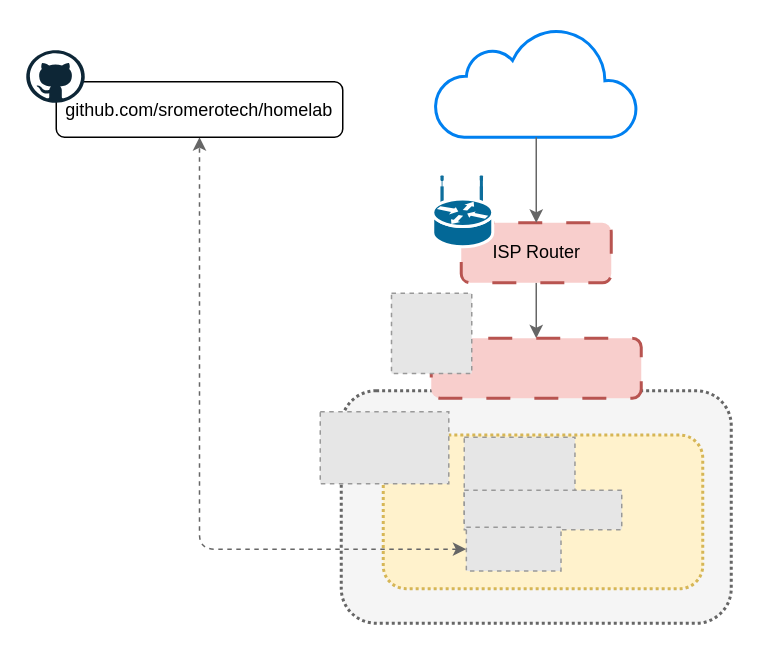
Image size: 759x650. Some labels were removed from this diagram. Grey dashed boxes stand in for pictures. The shapes that lost their labels are listed below. From the top down, each one's centre as x and y in pixels, then its label:
(535,82): Internet
(535,367): Raspberry Pi 5 8Gb
